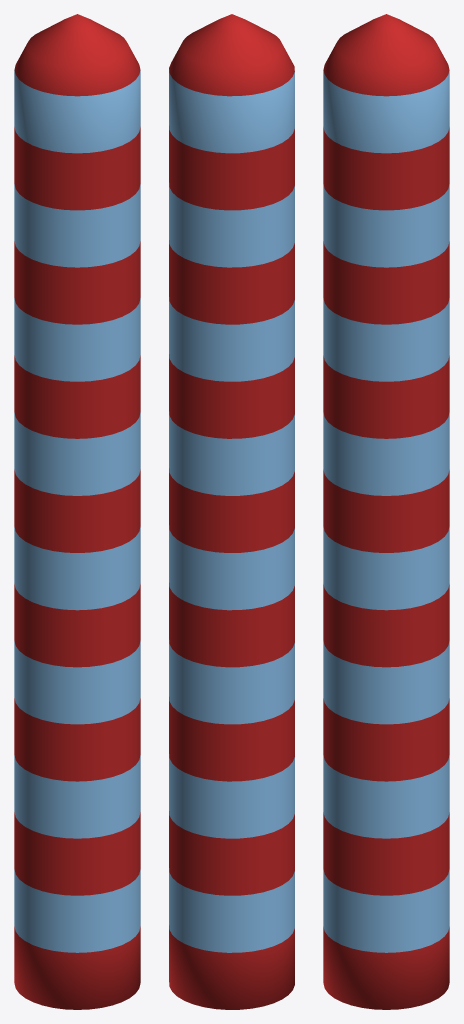
The model's file is RocketBody.fbx.
The picture shows the model from 3 angles, left to right: view 1: azimuth 90°, elevation 25°; view 2: azimuth 210°, elevation 25°; view 3: azimuth 270°, elevation 25°; orthographic projection.
Visible parts, largest first — view 1: Rocket; view 2: Rocket; view 3: Rocket.
Boxes of the visible parts, bbox=[...] form: Rocket: bbox=[14, 14, 140, 1009]; Rocket: bbox=[169, 14, 294, 1009]; Rocket: bbox=[323, 14, 449, 1009].
Size of the model in its own units: 1 by 8.49 by 1.
